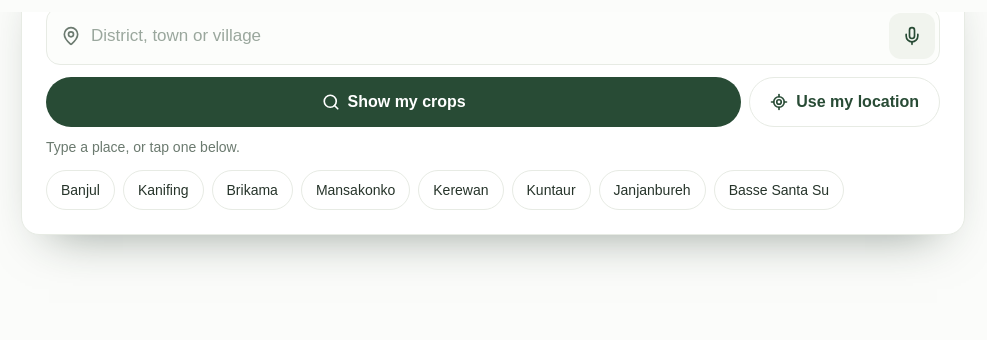
Scenario: LocationForm › explains when the GPS request times out
Click the button "Use my location".
click(845, 102)  # box [749,77,940,127]
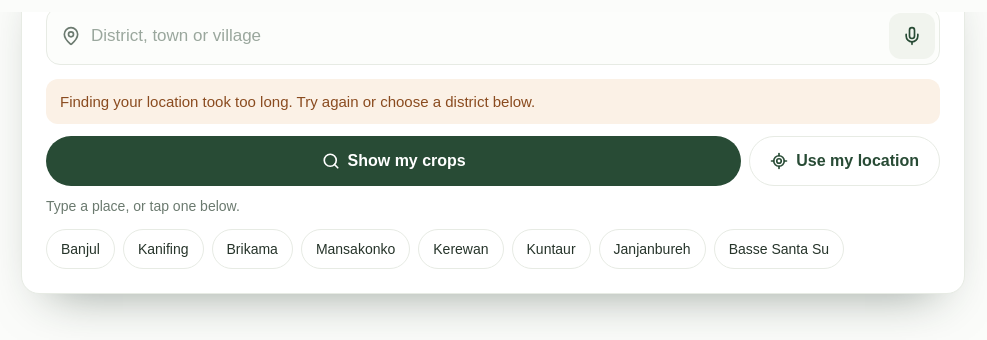
Expected: the message reads "Finding your location took too long. Try again or choose a district below.", [60,93,535,110]
